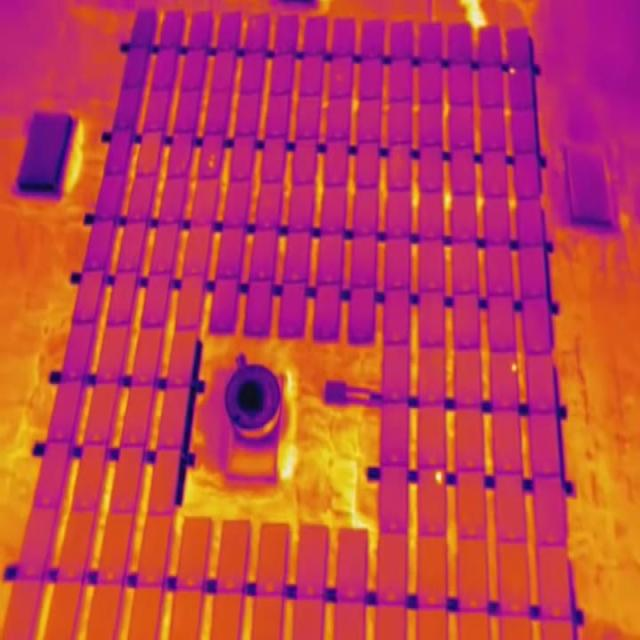Orange-Spots: (435, 471, 444, 485), (511, 361, 518, 374), (208, 155, 215, 168), (509, 68, 515, 74)
